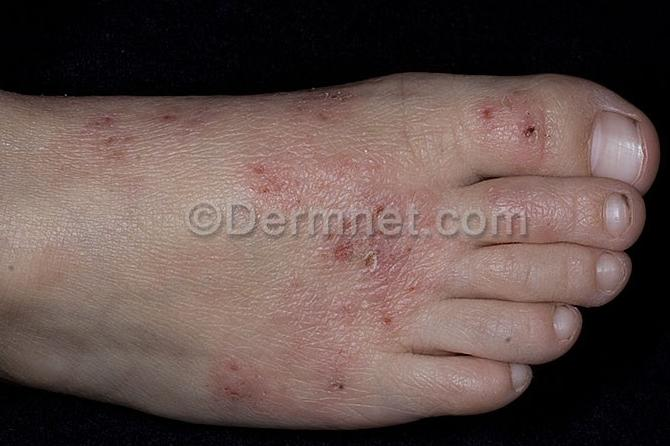excoriacion 1: (242, 149, 429, 405)
exudacion 1: (93, 111, 186, 156), (481, 107, 555, 143), (256, 166, 309, 202)
exudacion 2: (325, 196, 396, 281)
xerosis 1: (311, 89, 366, 106)
